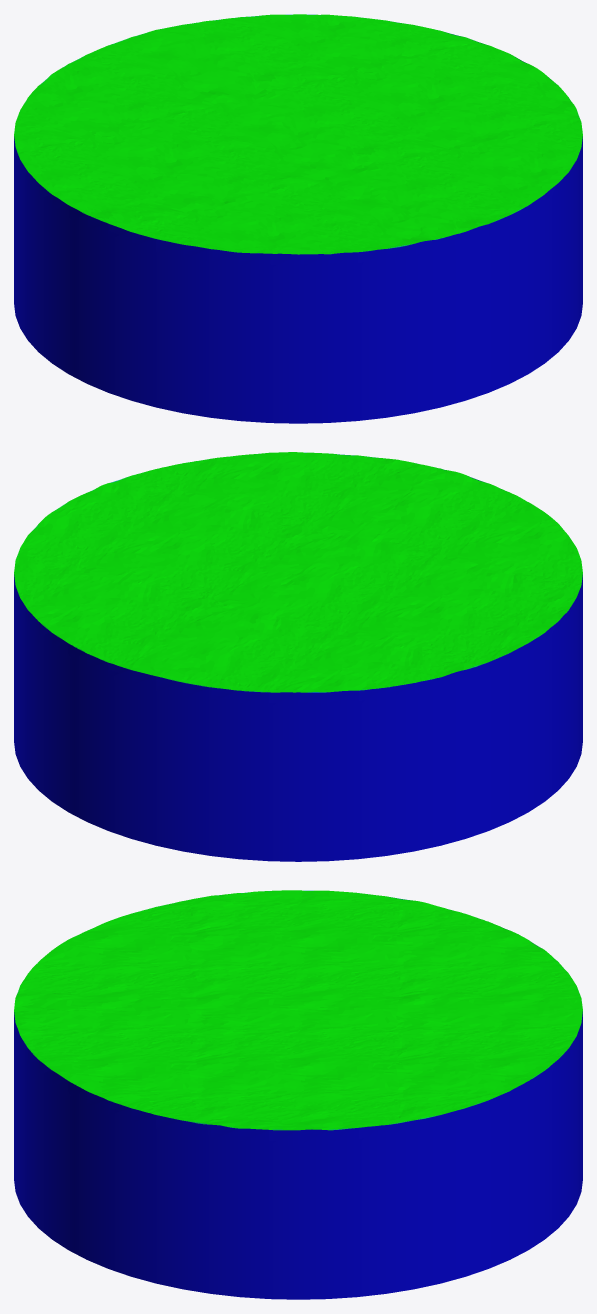
Rendered from ocean_sample_B_50k_double_sided.fbx.
3 renders of one model, top to bottom at view 1: azimuth 30°, elevation 25°; view 2: azimuth 150°, elevation 25°; view 3: azimuth 270°, elevation 25°, orthographic.
Parts seen in each view (by area): view 1: ocean_sample_B_50k_top, ocean_sample_B_50k_bottom; view 2: ocean_sample_B_50k_top, ocean_sample_B_50k_bottom; view 3: ocean_sample_B_50k_top, ocean_sample_B_50k_bottom.
Part boxes in pixels (left/top/right/bottom): ocean_sample_B_50k_top: left=14, top=14, right=582, bottom=269; ocean_sample_B_50k_bottom: left=14, top=151, right=582, bottom=423; ocean_sample_B_50k_top: left=14, top=452, right=582, bottom=708; ocean_sample_B_50k_bottom: left=14, top=589, right=582, bottom=861; ocean_sample_B_50k_top: left=14, top=890, right=582, bottom=1145; ocean_sample_B_50k_bottom: left=14, top=1027, right=582, bottom=1299.
Bounding box in the file's own units: 5489 × 1810 × 5489.
